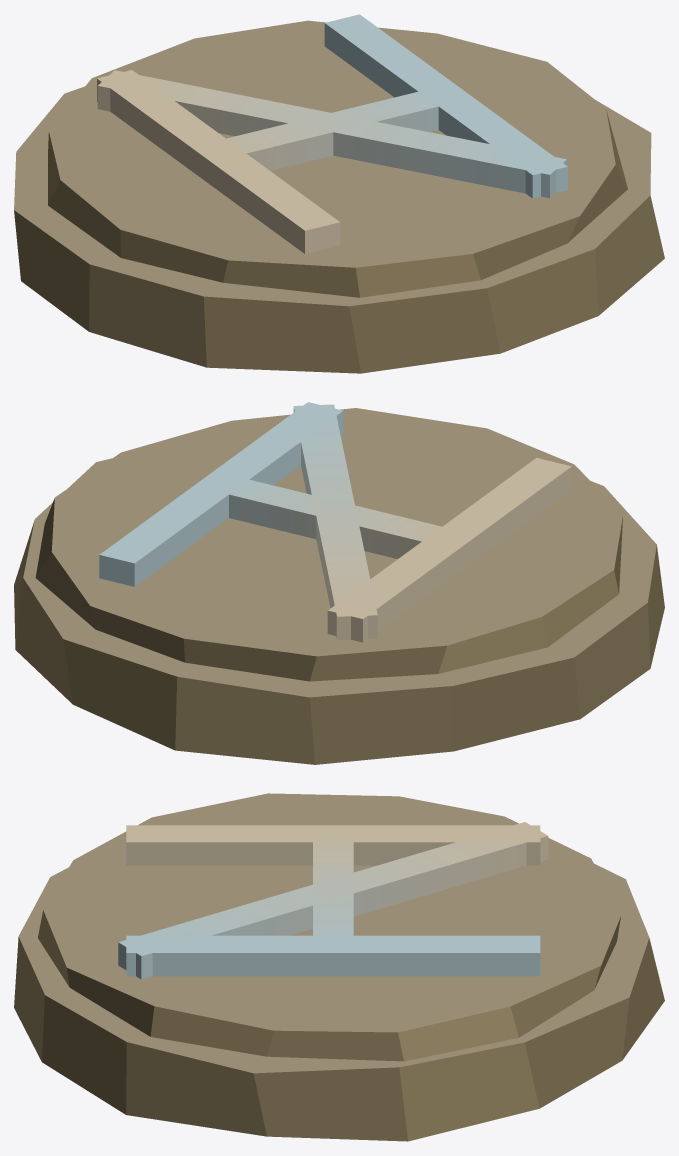
Rendered from Spellstone_Dragonvein.glb.
The picture shows the model from 3 angles, top to bottom: view 1: azimuth 30°, elevation 25°; view 2: azimuth 150°, elevation 25°; view 3: azimuth 270°, elevation 25°; orthographic projection.
Parts seen in each view (by area): view 1: Spellstone_Dragonvein; view 2: Spellstone_Dragonvein; view 3: Spellstone_Dragonvein.
Part boxes in pixels (x1,y1,x2,y2): Spellstone_Dragonvein: [14, 14, 664, 373]; Spellstone_Dragonvein: [14, 402, 664, 764]; Spellstone_Dragonvein: [14, 793, 664, 1141].
Size of the model in its own units: 0.8289 by 0.163 by 0.8361.
